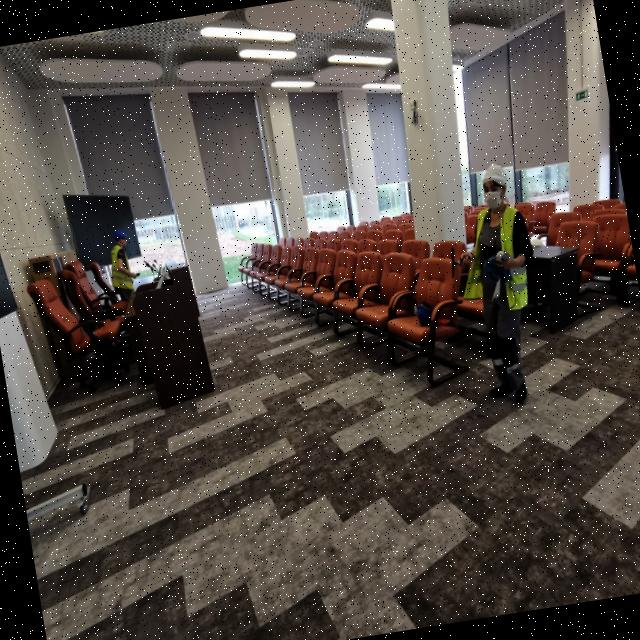Helmet: (114, 227, 130, 251)
NoHelmet: (478, 163, 515, 214)
